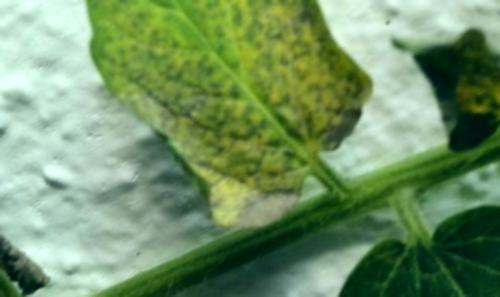Tomato leaf bacterial spot: (79, 3, 371, 218)
